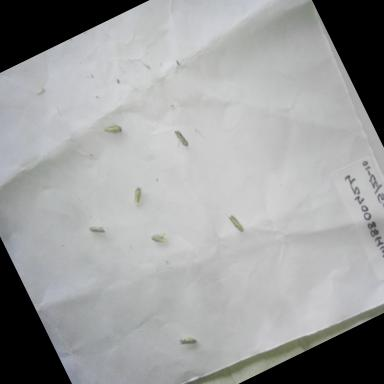pbw: (223, 208, 249, 237), (124, 182, 148, 210), (85, 216, 112, 240), (146, 224, 171, 248), (100, 116, 125, 140), (170, 125, 192, 151)
